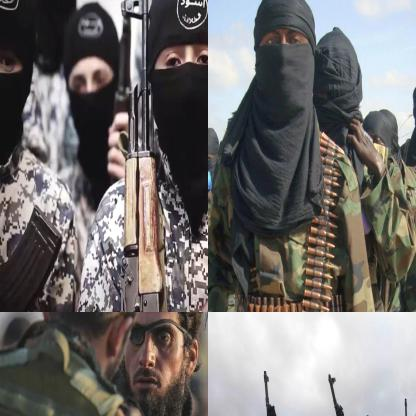rifle: (120, 0, 207, 311), (0, 200, 62, 311), (320, 373, 362, 415)
